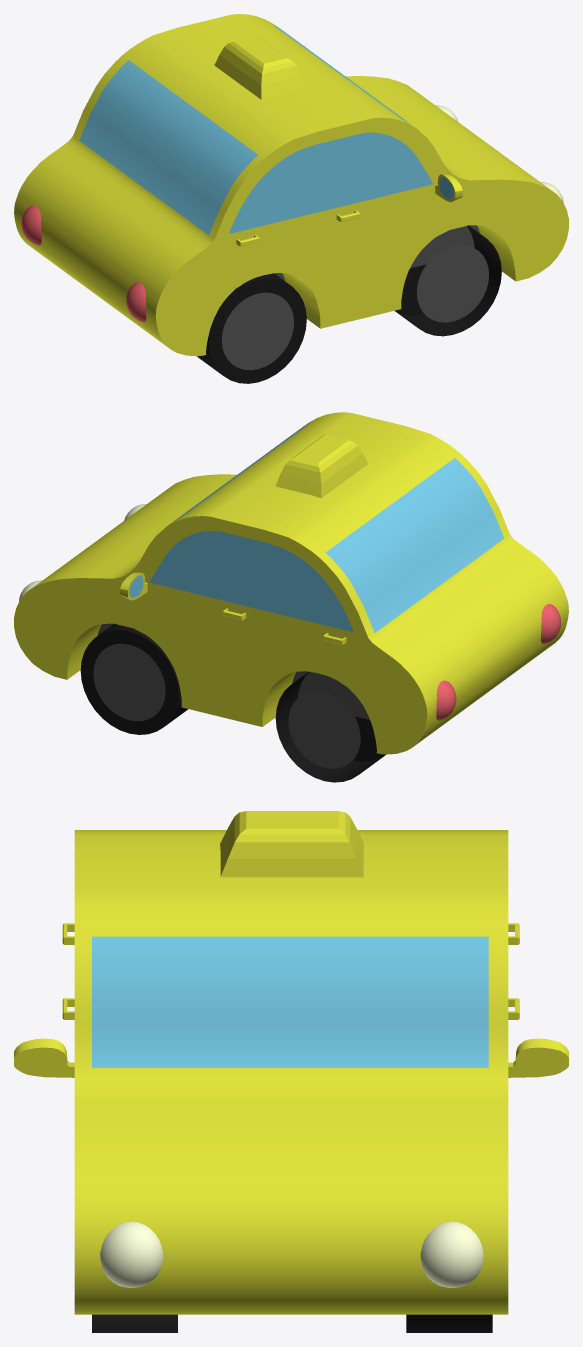
File: car.glb
3 renders of one model, top to bottom at view 1: azimuth 30°, elevation 25°; view 2: azimuth 150°, elevation 25°; view 3: azimuth 270°, elevation 25°, orthographic. The views are drawn at different scales.
Parts seen in each view (by area): view 1: taxi; view 2: taxi; view 3: taxi.
Part boxes in pixels (<box>): taxi: <box>14,14,568,383</box>; taxi: <box>14,412,568,782</box>; taxi: <box>14,811,568,1332</box>.
Bounding box in the file's own units: 1.86 × 1.1 × 1.35.
